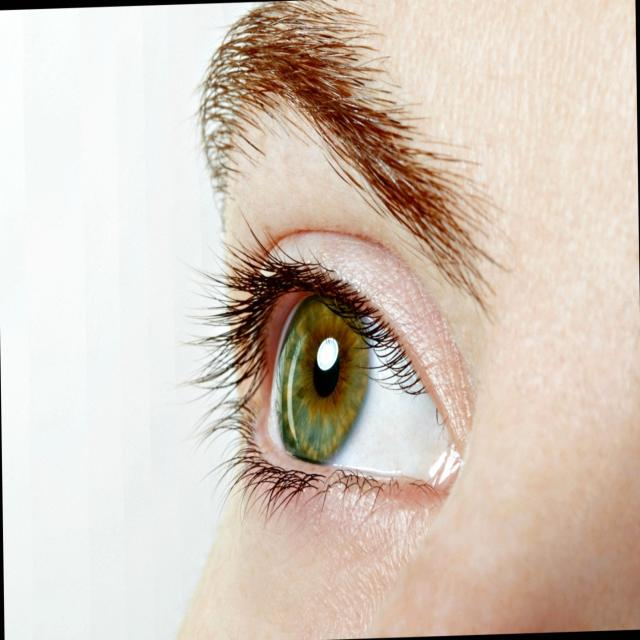Healthy-Eye: (198, 180, 512, 542)
